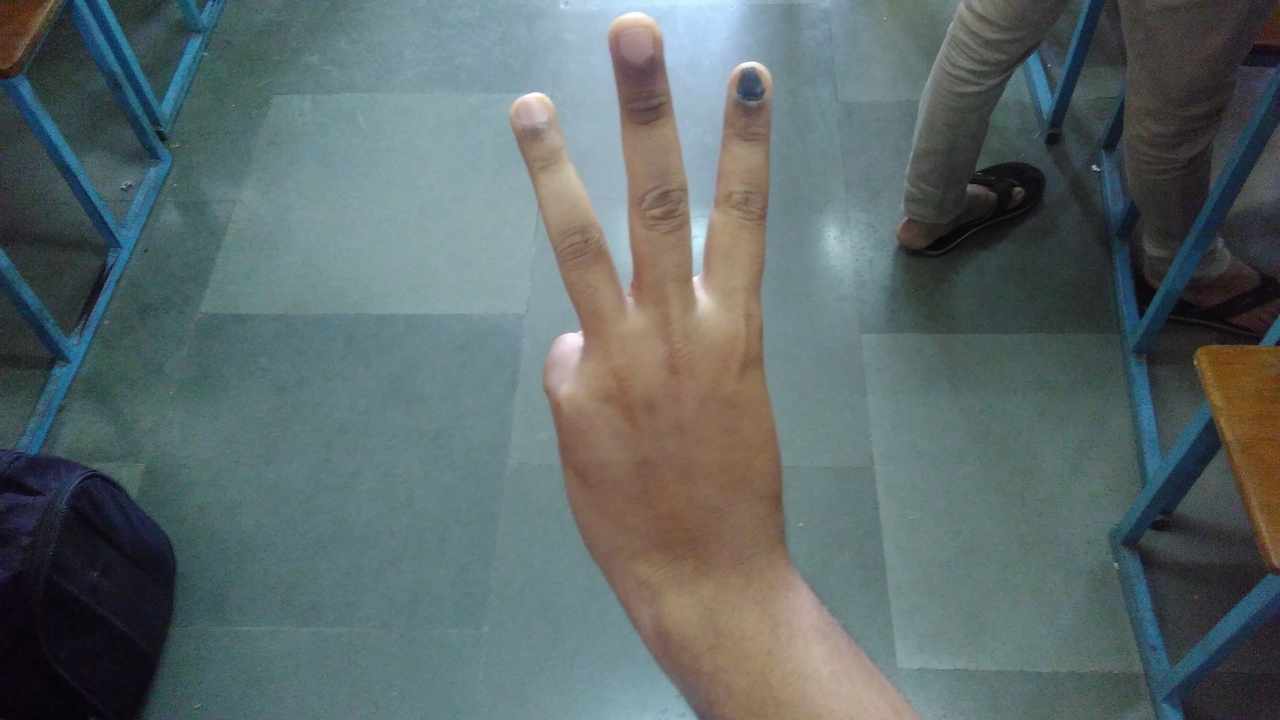fingertip: (604, 8, 666, 70), (500, 86, 566, 144), (722, 54, 782, 108)
